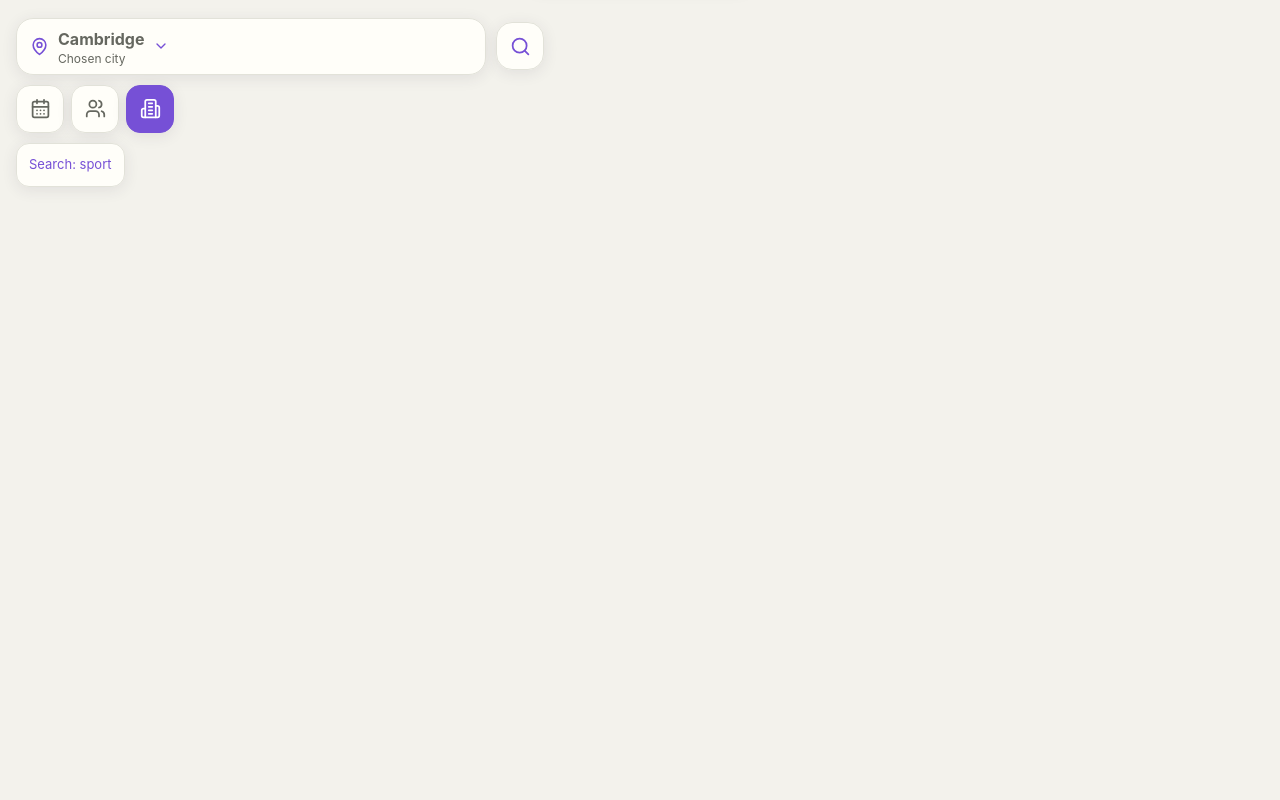
restores URL, plots matching result IDs, keeps map across list toggle, and does not refit for panel changes
Later steps or results of the test are not shown.
What coordinates should you click on to do the following:
click the button named "Search "
I would click on:
 (520, 46)
Its box is [496,22,544,70].
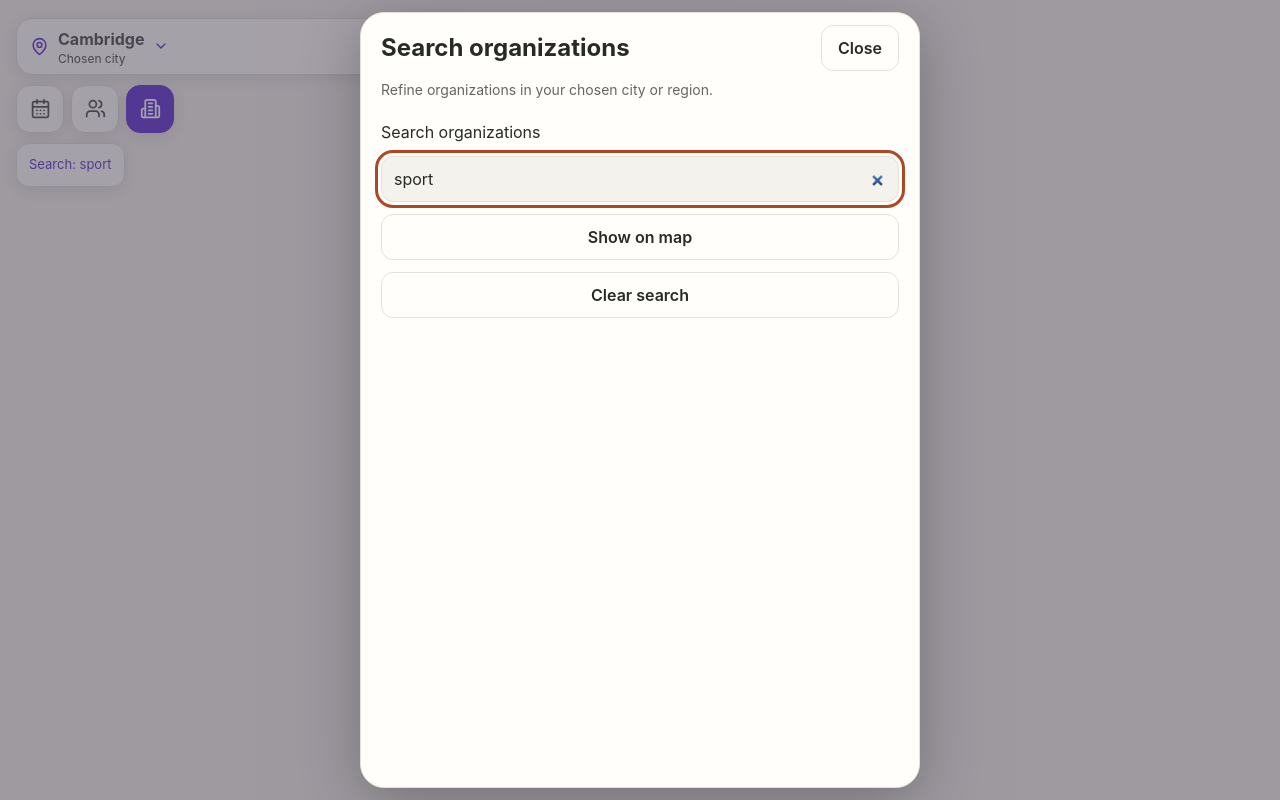
Check: the search field labelled "Search organizations" holds "sport", box [381,156,899,202]
